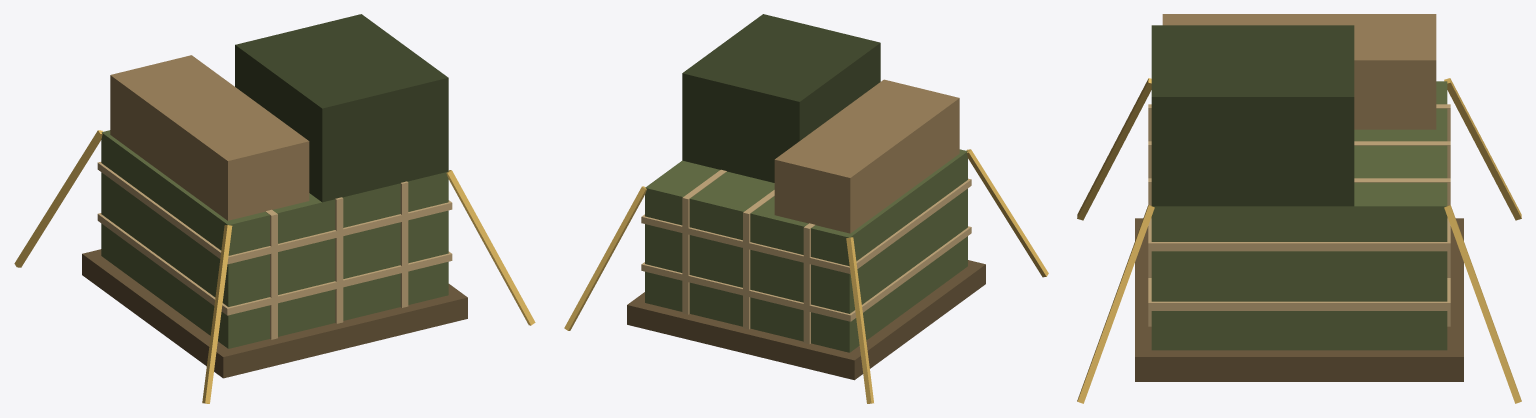
Rendered from prop_carrier_pallet_net.fbx.
The picture shows the model from 3 angles, left to right: view 1: azimuth 30°, elevation 25°; view 2: azimuth 150°, elevation 25°; view 3: azimuth 270°, elevation 25°; orthographic projection. The views are drawn at different scales.
Parts seen in each view (by area): view 1: prop_carrier_pallet_net; view 2: prop_carrier_pallet_net; view 3: prop_carrier_pallet_net.
Boxes of the visible parts, <box> form: prop_carrier_pallet_net: <box>14,14,535,403</box>; prop_carrier_pallet_net: <box>564,14,1048,403</box>; prop_carrier_pallet_net: <box>1077,14,1521,403</box>.
Bounding box in the file's own units: 812 × 560 × 812.
